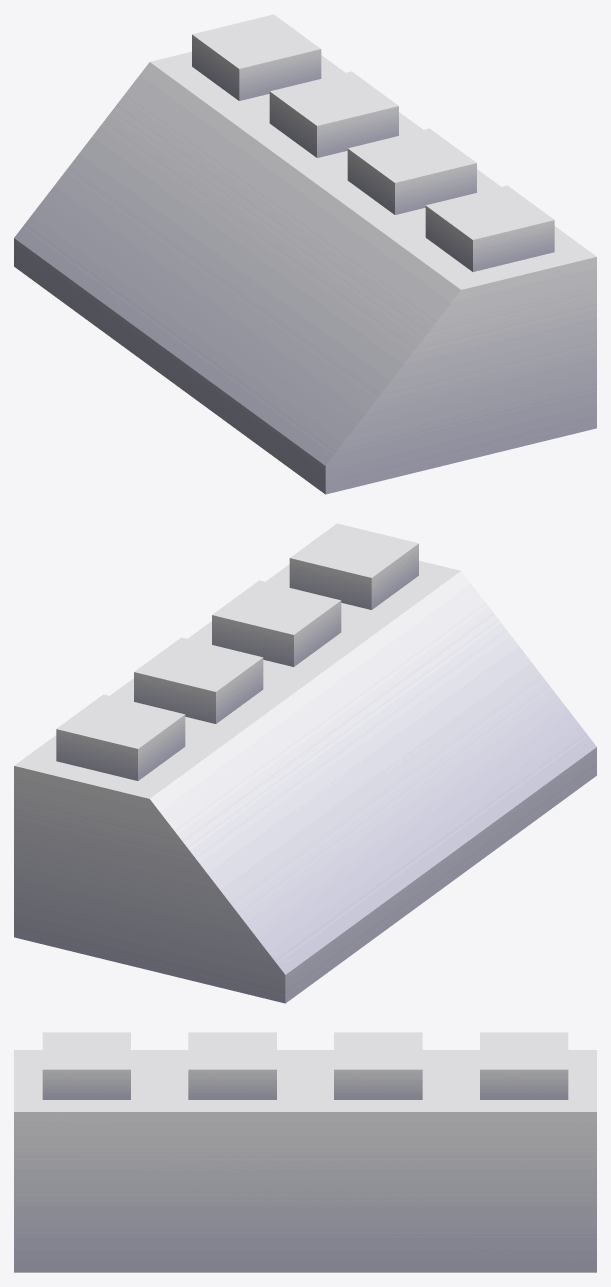
The model's file is square-lq-brick-slope-2x4.glb.
3 views of the same model, one above another, from view 1: azimuth 30°, elevation 25°; view 2: azimuth 150°, elevation 25°; view 3: azimuth 270°, elevation 25° (orthographic). The views are drawn at different scales.
Parts seen in each view (by area): view 1: square-lq-brick-slope-2x4; view 2: square-lq-brick-slope-2x4; view 3: square-lq-brick-slope-2x4.
Part boxes in pixels (x1,y1,x2,y2): square-lq-brick-slope-2x4: (14, 14, 596, 494); square-lq-brick-slope-2x4: (14, 523, 596, 1003); square-lq-brick-slope-2x4: (14, 1032, 596, 1272).
Bounding box in the file's own units: 0.795 × 0.57 × 1.58.
Materials: 1 (1 with a texture image).
